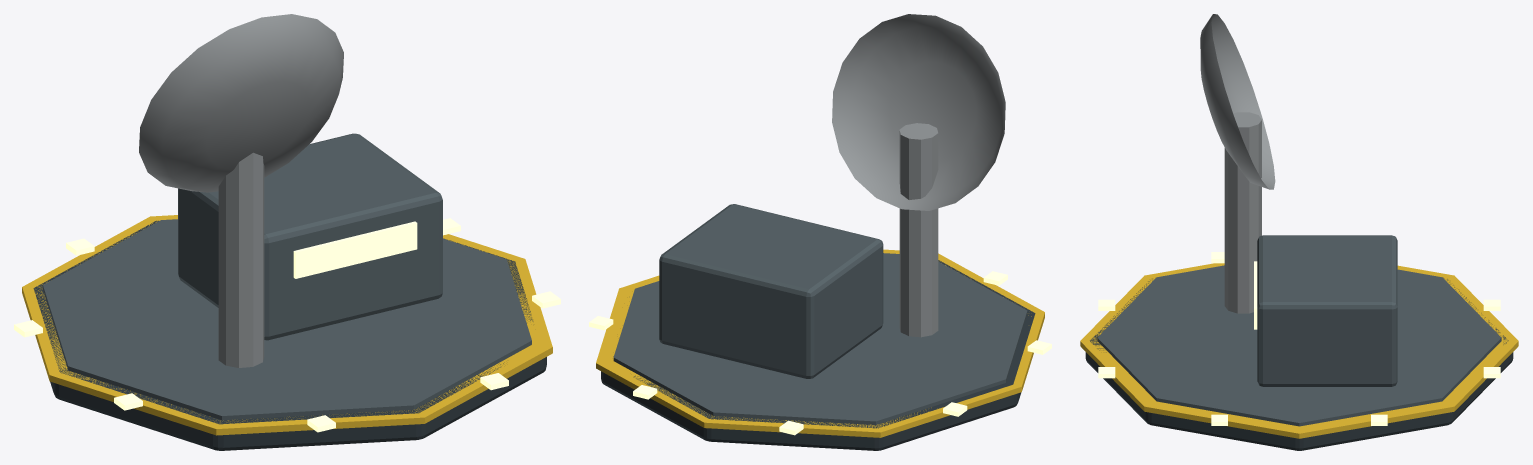
File: radar_center.fbx
3 views of the same model, side by side, from view 1: azimuth 30°, elevation 25°; view 2: azimuth 150°, elevation 25°; view 3: azimuth 270°, elevation 25° (orthographic). The views are drawn at different scales.
Visible parts, largest first — view 1: radar_center, ANIM_spin_z_60__dish; view 2: radar_center, ANIM_spin_z_60__dish; view 3: radar_center, ANIM_spin_z_60__dish.
Boxes of the visible parts, <box> form: radar_center: <box>14,133,560,450</box>; ANIM_spin_z_60__dish: <box>139,14,343,192</box>; radar_center: <box>589,123,1051,450</box>; ANIM_spin_z_60__dish: <box>832,14,1005,210</box>; radar_center: <box>1080,112,1518,450</box>; ANIM_spin_z_60__dish: <box>1200,14,1275,189</box>.
Bounding box in the file's own units: 4.69 × 3.64 × 4.69.
